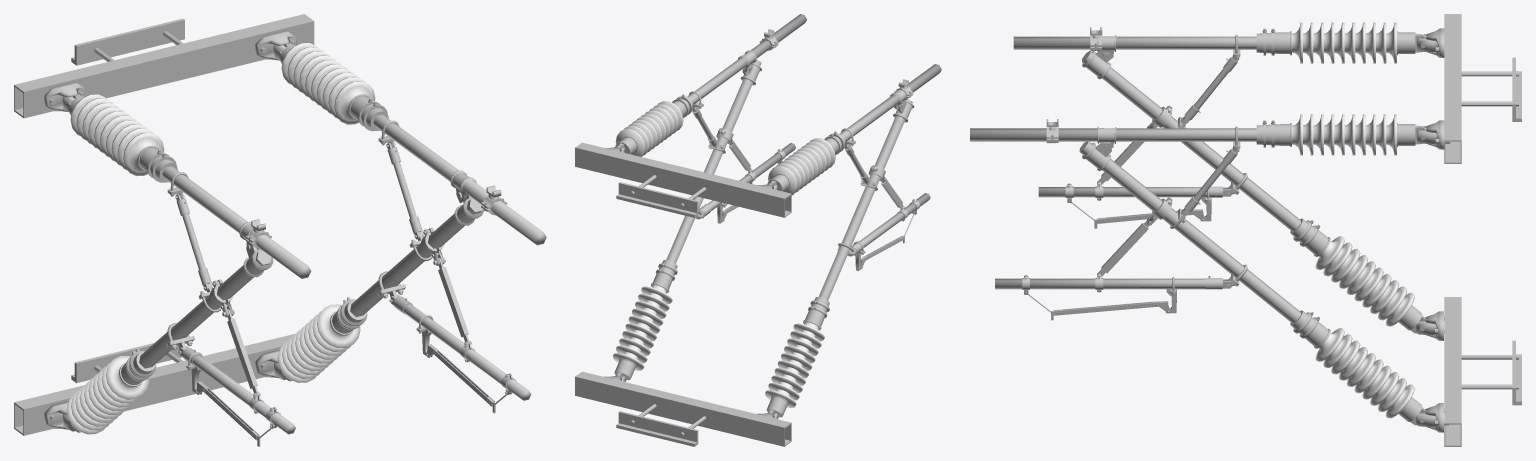
The model's file is single_short_double_3.obj.
3 views of the same model, side by side, from view 1: azimuth 30°, elevation 25°; view 2: azimuth 150°, elevation 25°; view 3: azimuth 270°, elevation 25° (orthographic). The views are drawn at different scales.
Visible parts, largest first — view 1: 立方体.582, 立方体.577, 贝塞尔曲线.117, 贝塞尔曲线.126, 立方体.580, 贝塞尔曲线.118, 贝塞尔曲线.127, 贝塞尔曲线.119, 贝塞尔曲线.128, 立方体.579, 柱体.1115, 柱体.1206 (+9 smaller); view 2: 立方体.577, 立方体.582, 贝塞尔曲线.127, 贝塞尔曲线.118, 立方体.580, 立方体.579, 贝塞尔曲线.117, 贝塞尔曲线.126, 贝塞尔曲线.128, 贝塞尔曲线.119, 柱体.1122, 柱体.1213; view 3: 贝塞尔曲线.117, 贝塞尔曲线.118, 贝塞尔曲线.127, 贝塞尔曲线.126, 立方体.577, 立方体.582, 贝塞尔曲线.119, 贝塞尔曲线.128, 柱体.1087, 柱体.1178, 立方体.506, 柱体.1122 (+6 smaller).
Part boxes in pixels (x1,y1,x2,y2): 立方体.582: (14,14,314,118); 立方体.577: (14,333,295,435); 贝塞尔曲线.117: (373,114,546,245); 贝塞尔曲线.126: (162,166,311,278); 立方体.580: (71,18,184,65); 贝塞尔曲线.118: (350,198,482,316); 贝塞尔曲线.127: (139,250,271,368); 贝塞尔曲线.119: (403,304,531,400); 贝塞尔曲线.128: (192,355,295,434); 立方体.579: (71,343,182,383); 柱体.1115: (317,304,360,348); 柱体.1206: (106,356,149,399); 立方体.577: (575,371,791,446); 立方体.582: (575,142,791,217); 贝塞尔曲线.127: (818,99,912,300); 贝塞尔曲线.118: (666,60,761,263); 立方体.580: (616,182,698,217); 立方体.579: (616,411,698,446); 贝塞尔曲线.117: (687,14,806,104); 贝塞尔曲线.126: (840,64,941,141); 贝塞尔曲线.128: (859,193,930,247); 贝塞尔曲线.119: (706,143,795,211); 柱体.1122: (651,260,677,293); 柱体.1213: (803,297,829,330); 贝塞尔曲线.117: (970,128,1256,141); 贝塞尔曲线.118: (1079,141,1300,323); 贝塞尔曲线.127: (1082,51,1300,231); 贝塞尔曲线.126: (1013,36,1256,49); 立方体.577: (1444,297,1461,446); 立方体.582: (1444,14,1461,163); 贝塞尔曲线.119: (995,278,1205,289); 贝塞尔曲线.128: (1038,187,1205,197); 柱体.1087: (1256,123,1291,146); 柱体.1178: (1256,31,1291,55); 立方体.506: (1053,301,1158,315); 柱体.1122: (1290,310,1330,348).
Bounding box in the file's own units: 1.72 × 1.99 × 3.18.
